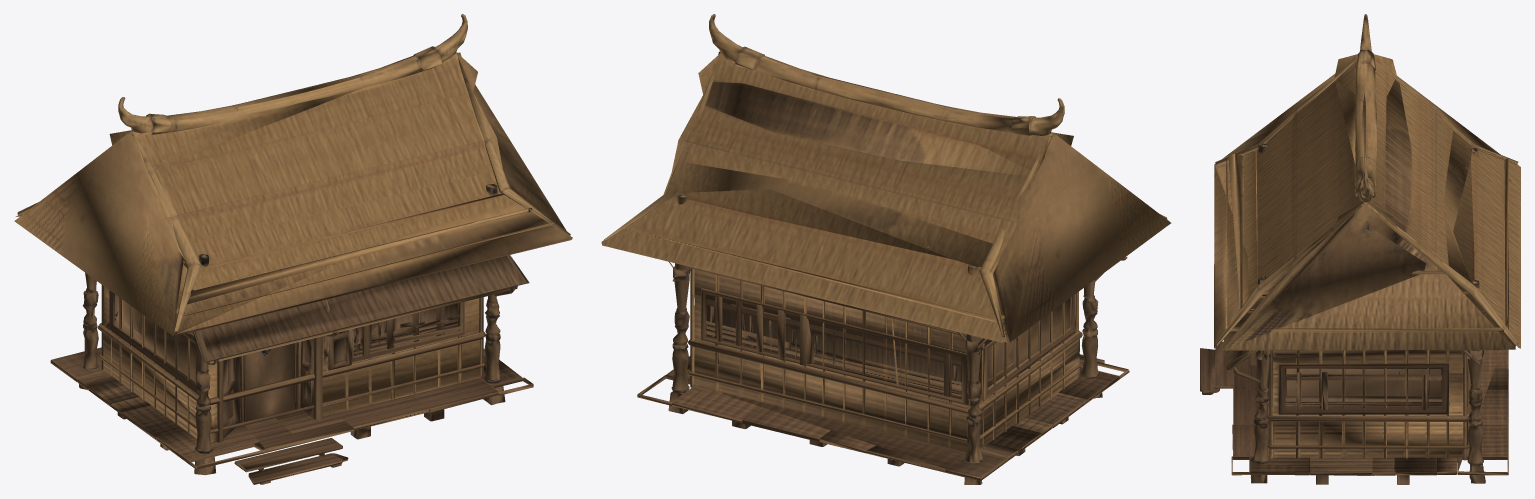
The model's file is NhaTranh_LangGiong.fbx.
The picture shows the model from 3 angles, left to right: view 1: azimuth 30°, elevation 25°; view 2: azimuth 150°, elevation 25°; view 3: azimuth 270°, elevation 25°; orthographic projection. The views are drawn at different scales.
Visible parts, largest first — view 1: Mesh_0; view 2: Mesh_0; view 3: Mesh_0.
Boxes of the visible parts, x1,y1,x2,y2 form: Mesh_0: [14, 14, 572, 484]; Mesh_0: [601, 14, 1171, 484]; Mesh_0: [1200, 14, 1520, 484].
Size of the model in its own units: 94.97 by 76.76 by 69.53.
Materials: 1 (1 with a texture image).
